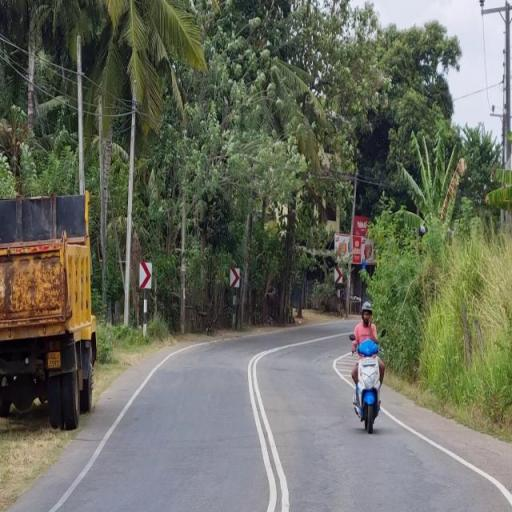double_white_line: (246, 346, 292, 512)
